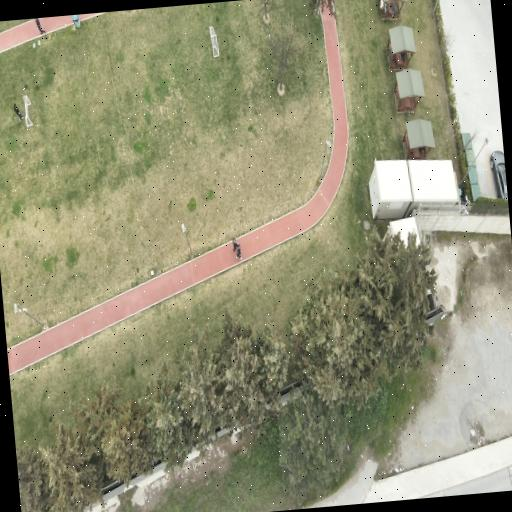car: (488, 150, 510, 202)
person: (35, 18, 46, 34), (14, 104, 23, 121), (233, 238, 239, 250), (401, 52, 406, 62), (237, 247, 241, 258), (380, 0, 384, 10)
